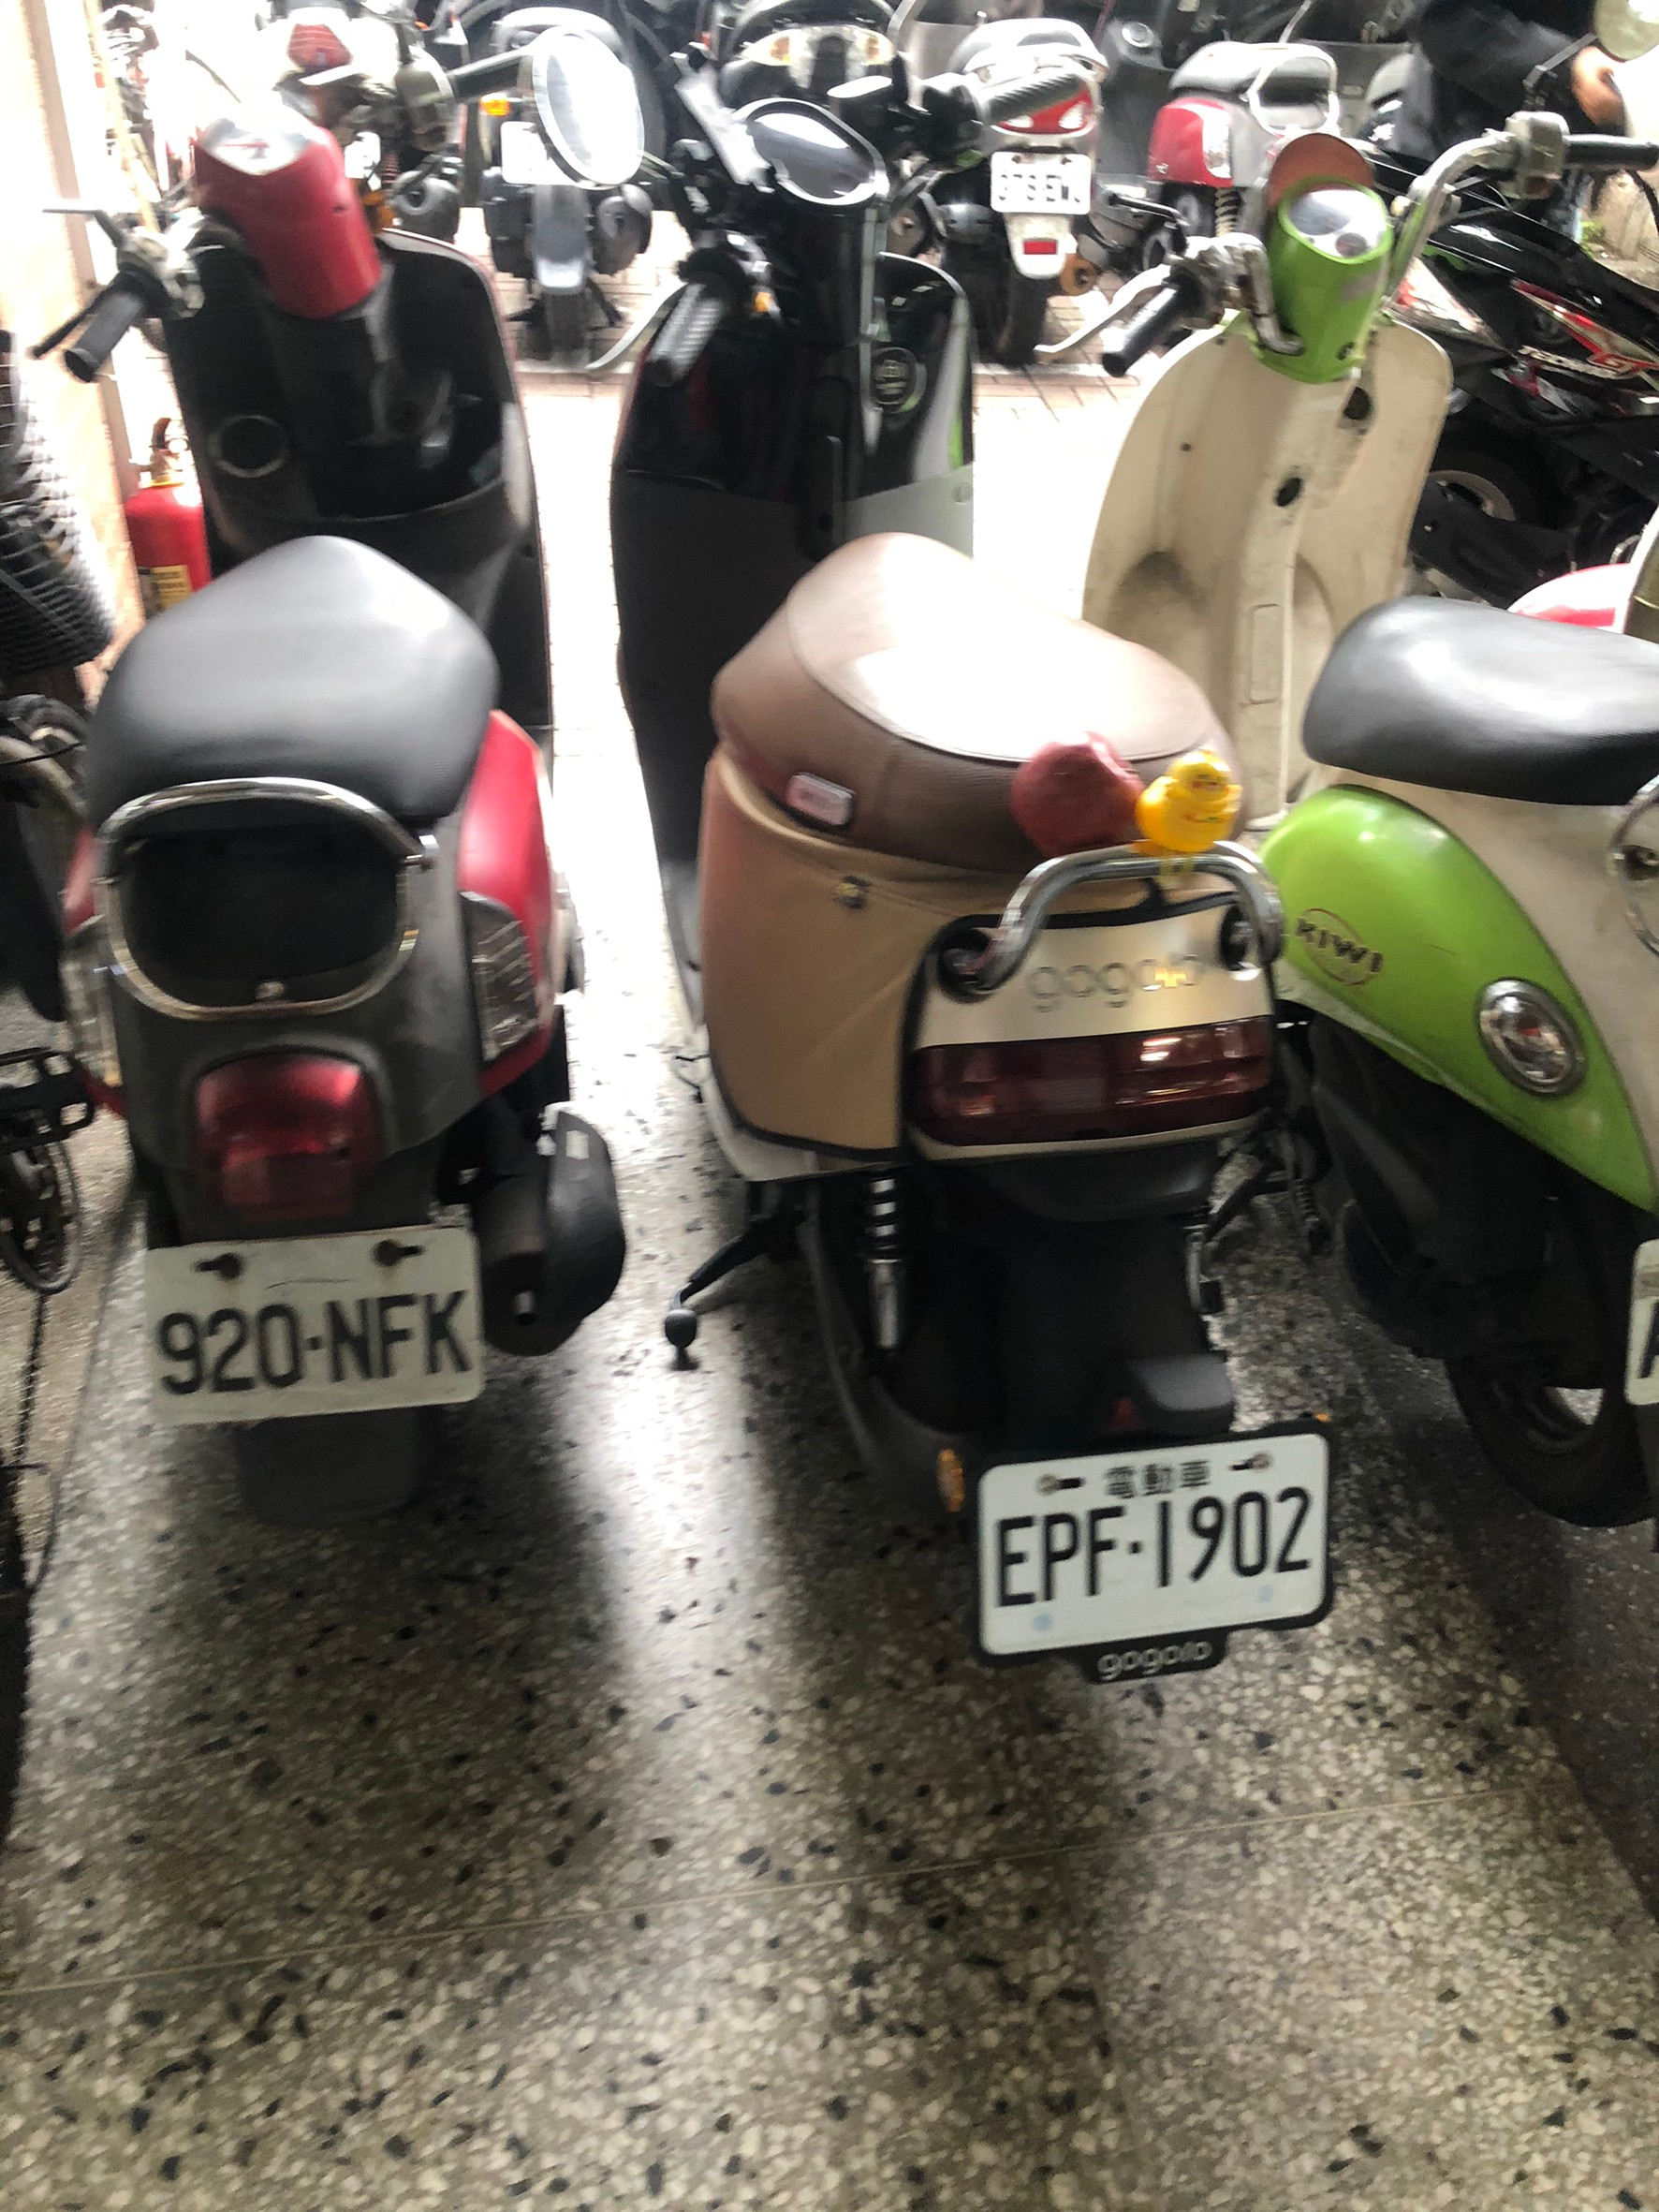LP: (959, 1436, 1329, 1634), (146, 1253, 491, 1410)
